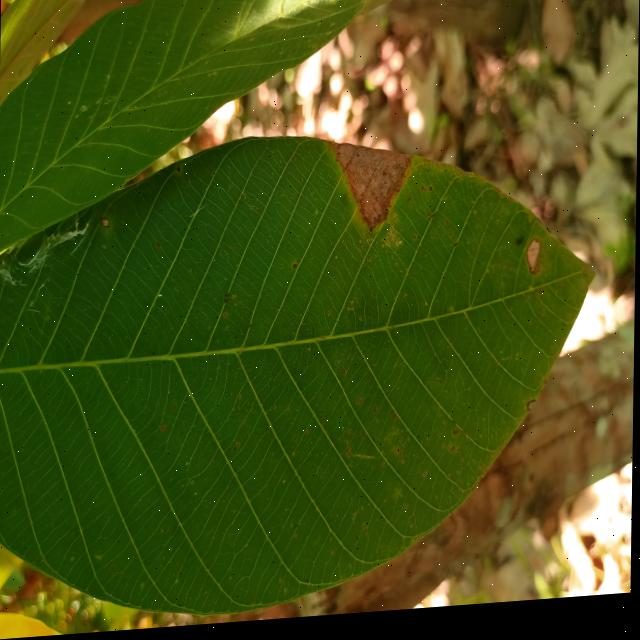Colletotrichum: (175, 168, 181, 178)
Leaf-Blight: (328, 136, 412, 243), (521, 246, 543, 284), (99, 218, 111, 232)
